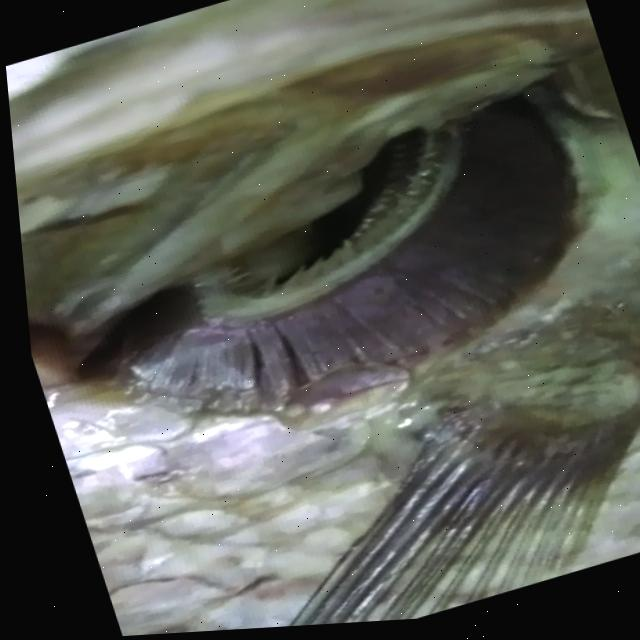Non-Fresh: (18, 46, 640, 485)
